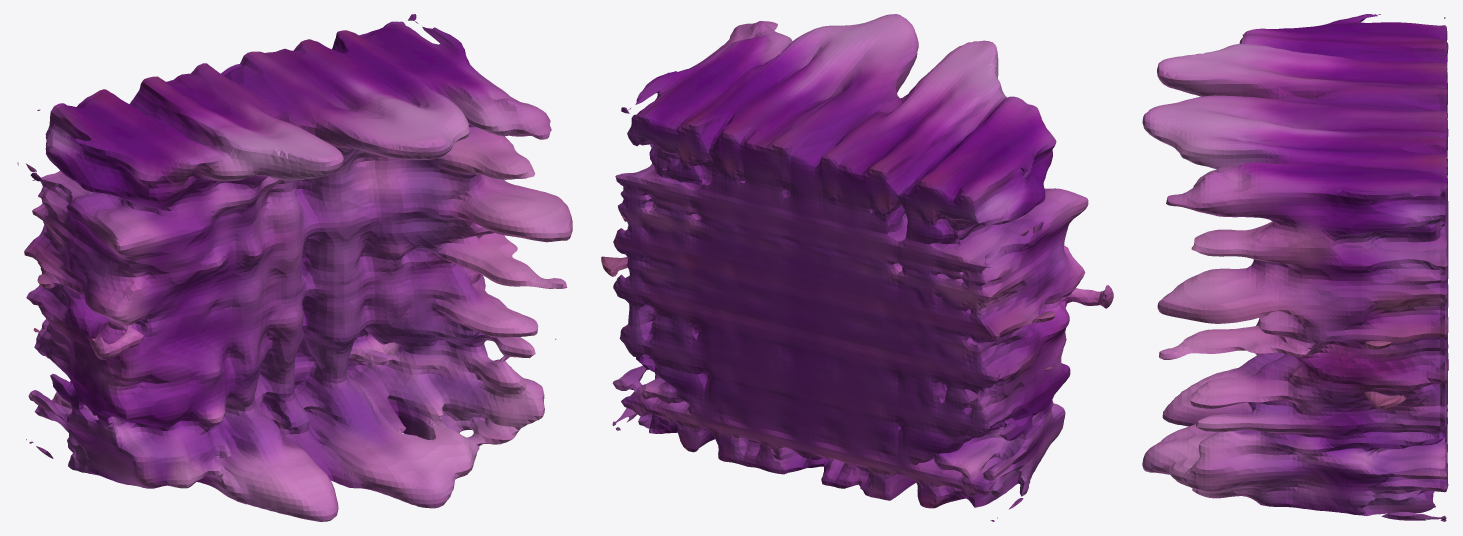
File: a_violet_sofa.glb
3 renders of one model, left to right at view 1: azimuth 30°, elevation 25°; view 2: azimuth 150°, elevation 25°; view 3: azimuth 270°, elevation 25°, orthographic. The views are drawn at different scales.
Visible parts, largest first — view 1: a_violet_sofa.obj; view 2: a_violet_sofa.obj; view 3: a_violet_sofa.obj.
Part boxes in pixels (x1,y1,x2,y2): a_violet_sofa.obj: (17, 14, 572, 521); a_violet_sofa.obj: (601, 14, 1113, 521); a_violet_sofa.obj: (1142, 14, 1448, 521).
Size of the model in its own units: 1.77 by 1.33 by 1.03.
